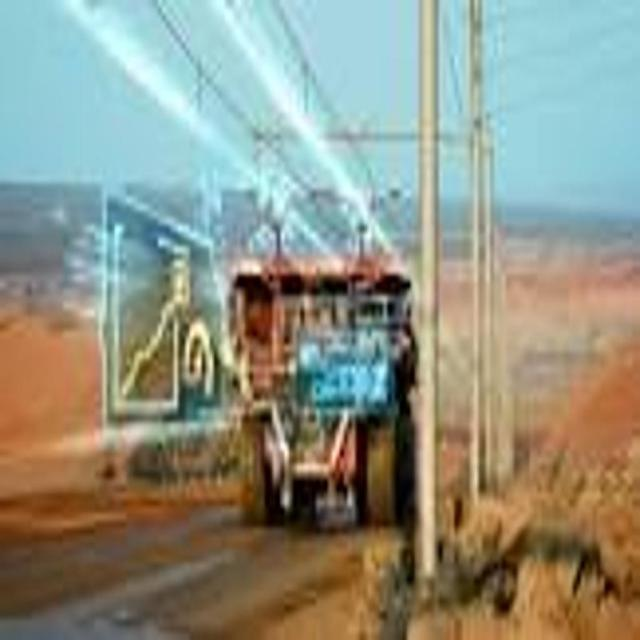dump_truck: (230, 196, 422, 544)
